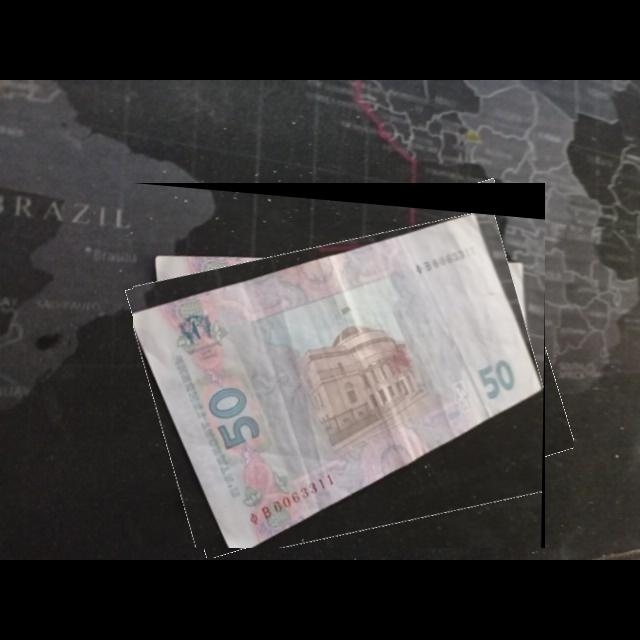50uah: (133, 207, 545, 549)
